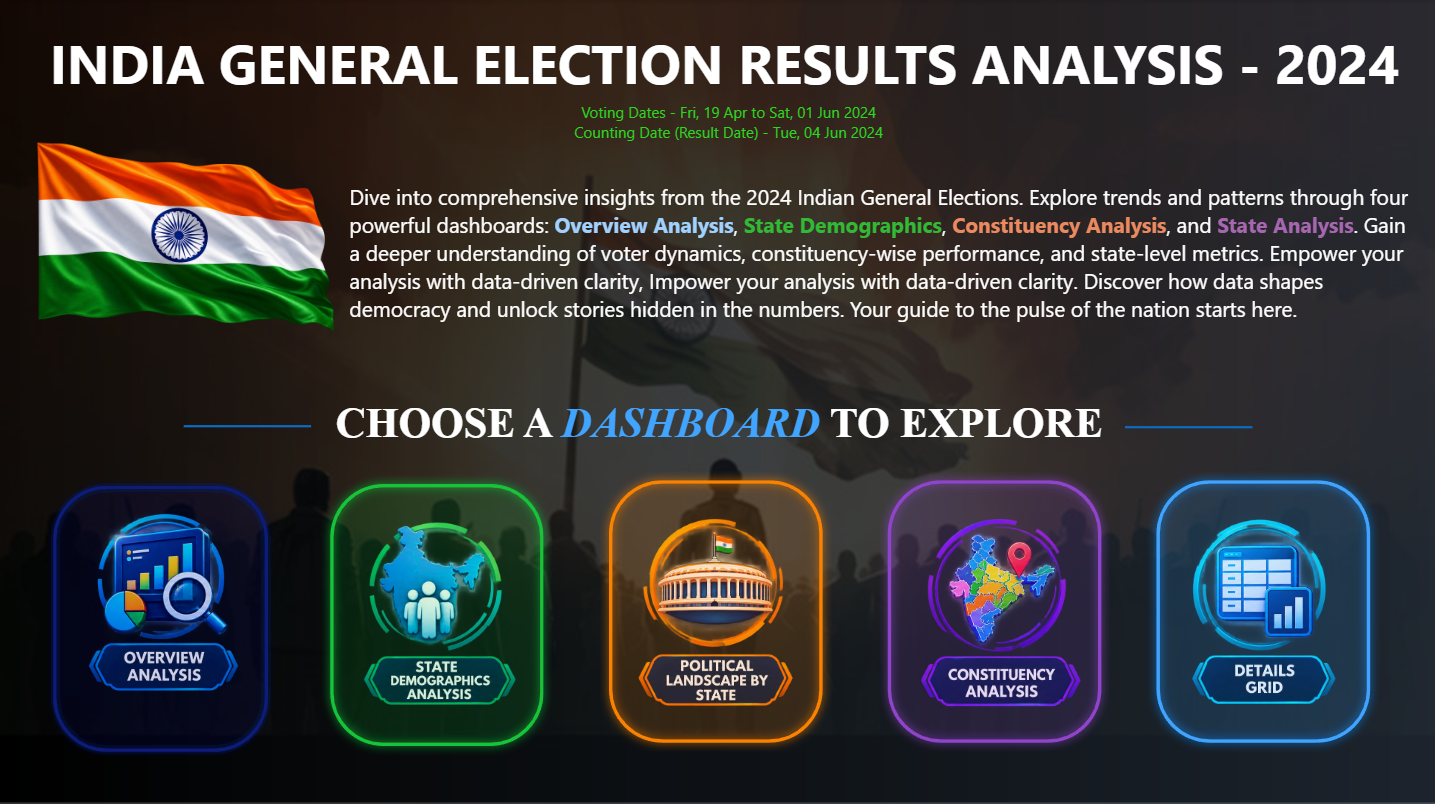

What the dashboard file says about the page in this screenshot:
{"tool":"powerbi","page":{"name":"India Elections Result","canvas":[1280,720],"ordinal":0},"visuals":[{"type":"image","box":[270.2,427.1,242.5,236.5],"z":0},{"type":"actionButton","box":[286.1,423,205.9,249.4],"z":1000},{"type":"image","box":[989.3,424.7,272.7,240.1],"z":2000},{"type":"image","box":[802.3,423.5,174.9,243.7],"z":3000},{"type":"image","box":[493.4,423.5,289.5,240.1],"z":4000},{"type":"image","box":[0,419.7,286.1,231.5],"z":5000},{"type":"textbox","box":[9.7,18.1,1270.4,91.7],"z":6000},{"type":"textbox","box":[37.4,85.7,1222.1,48.3],"z":7000},{"type":"textbox","box":[306.4,158,953.1,139.9],"z":8000},{"type":"actionButton","box":[42.3,427.5,201.5,247.1],"z":9000},{"type":"actionButton","box":[534.5,419.8,206.3,249.7],"z":10000},{"type":"actionButton","box":[783,419.8,206.3,249.7],"z":11000},{"type":"actionButton","box":[1021.9,419.8,206.3,249.7],"z":12000},{"type":"textbox","box":[103.5,349.5,1083.1,59],"z":13000},{"type":"image","box":[18.1,109.8,292,199.1],"z":14000},{"type":"shape","box":[164.1,236.5,113.4,287.1],"z":15000},{"type":"shape","box":[1001.3,276.3,113.4,208.7],"z":16000}]}

Visuals, with their boxes in screenshot pixels (x1, y1, x2, y2), scaled from the page's 1280x720 canvas onto the 1435x804 screenshot:
image: [left=303, top=477, right=575, bottom=741]
actionButton: [left=321, top=472, right=552, bottom=751]
image: [left=1109, top=474, right=1415, bottom=742]
image: [left=899, top=473, right=1096, bottom=745]
image: [left=553, top=473, right=878, bottom=741]
image: [left=0, top=469, right=321, bottom=727]
textbox: [left=11, top=20, right=1434, bottom=123]
textbox: [left=42, top=96, right=1412, bottom=150]
textbox: [left=344, top=176, right=1412, bottom=333]
actionButton: [left=47, top=477, right=273, bottom=753]
actionButton: [left=599, top=469, right=831, bottom=748]
actionButton: [left=878, top=469, right=1109, bottom=748]
actionButton: [left=1146, top=469, right=1377, bottom=748]
textbox: [left=116, top=390, right=1330, bottom=456]
image: [left=20, top=123, right=348, bottom=345]
shape: [left=184, top=264, right=311, bottom=585]
shape: [left=1123, top=309, right=1250, bottom=542]
